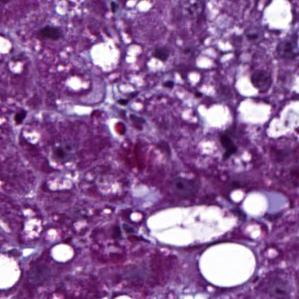ballooning: (144, 202, 241, 250)
